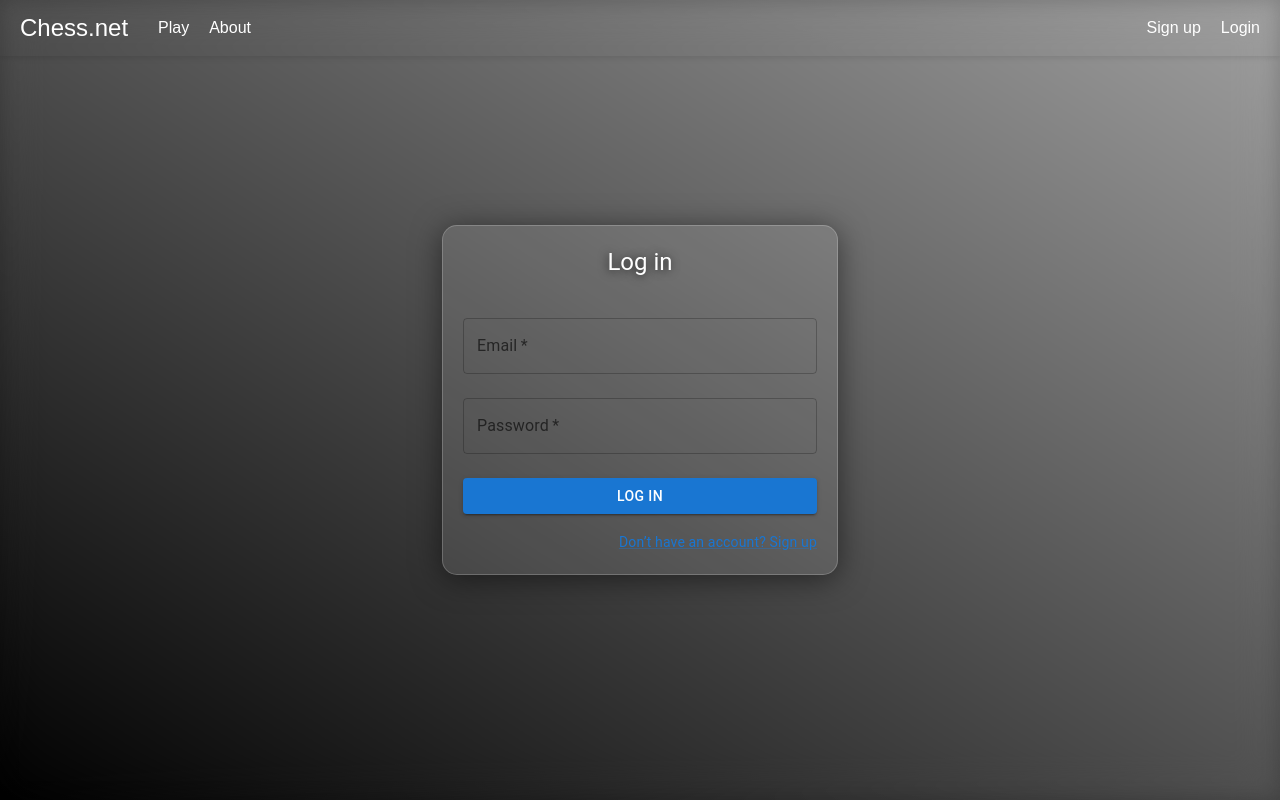
Login Form E2E Tests › should show validation error for weak password
The width and height of the screenshot is (1280, 800).
Type "invalid-email@edu.pl" into the field named "email" at (640,346), box [463,318,817,374]
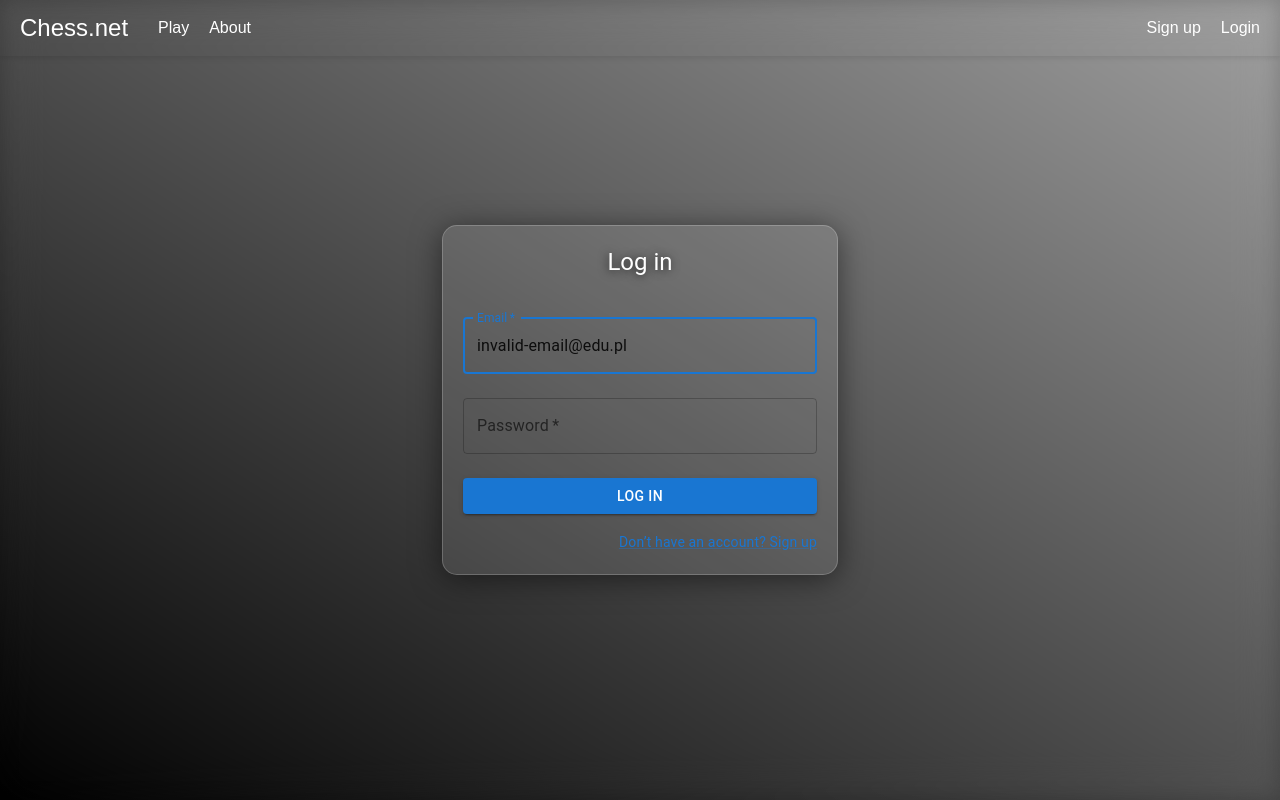
Type "password123" into the password field named "password" at (640,426), box [463,398,817,454]
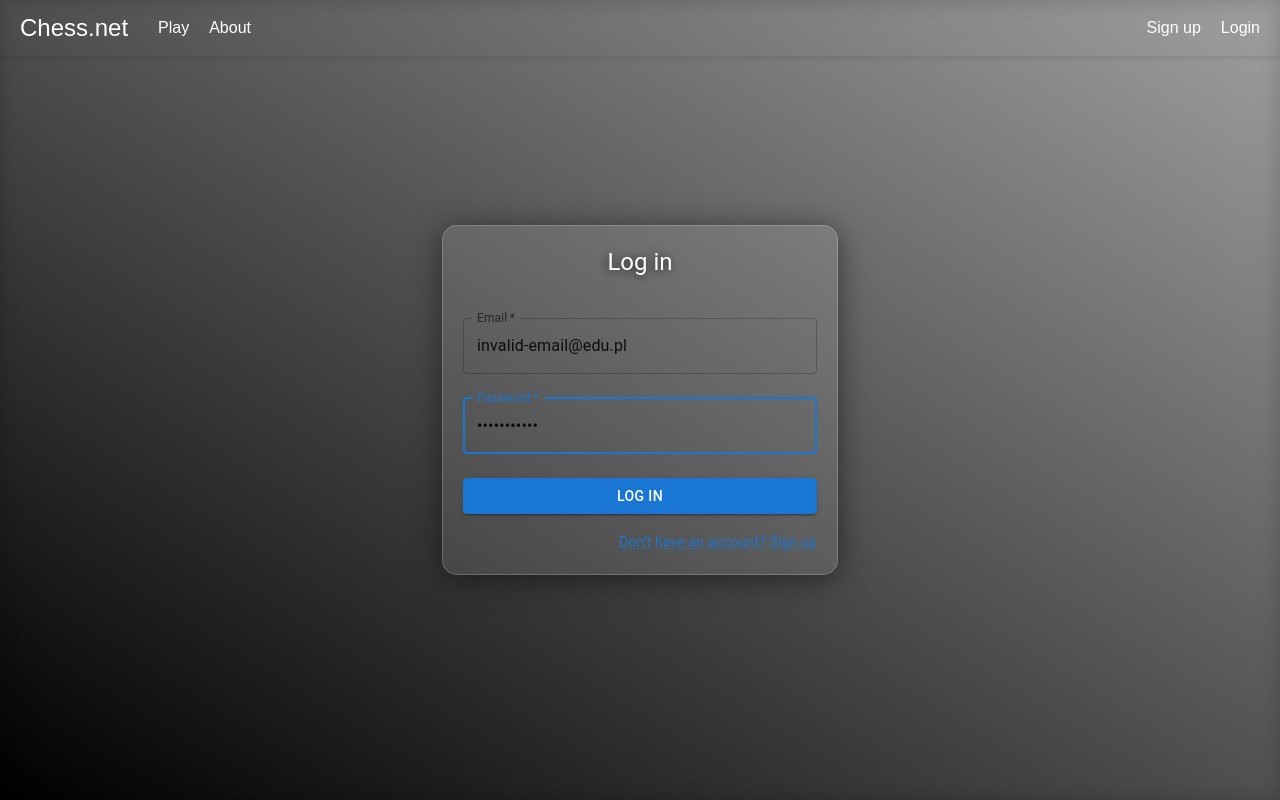
Click the submit button at (640,497), box [463,478,817,515]
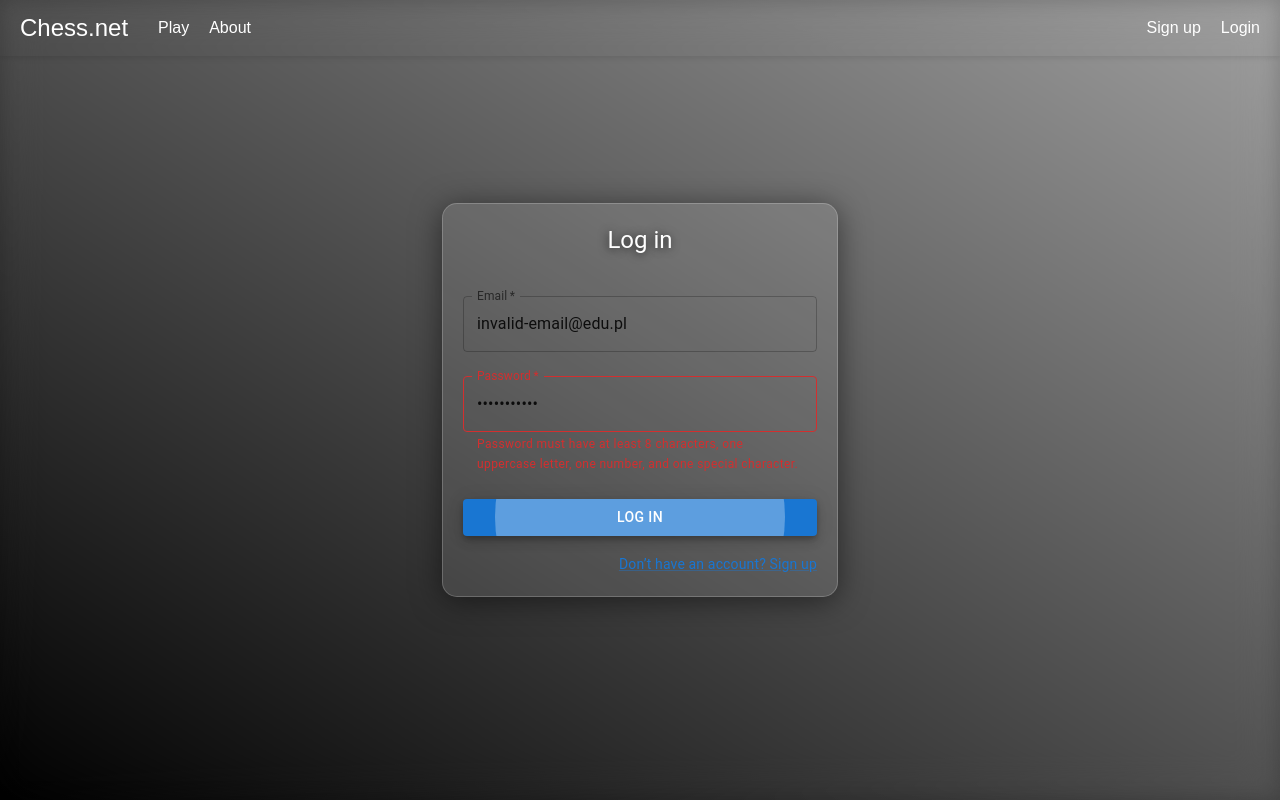
Expected: the text "Password must have" is shown, [477,437,798,471]
